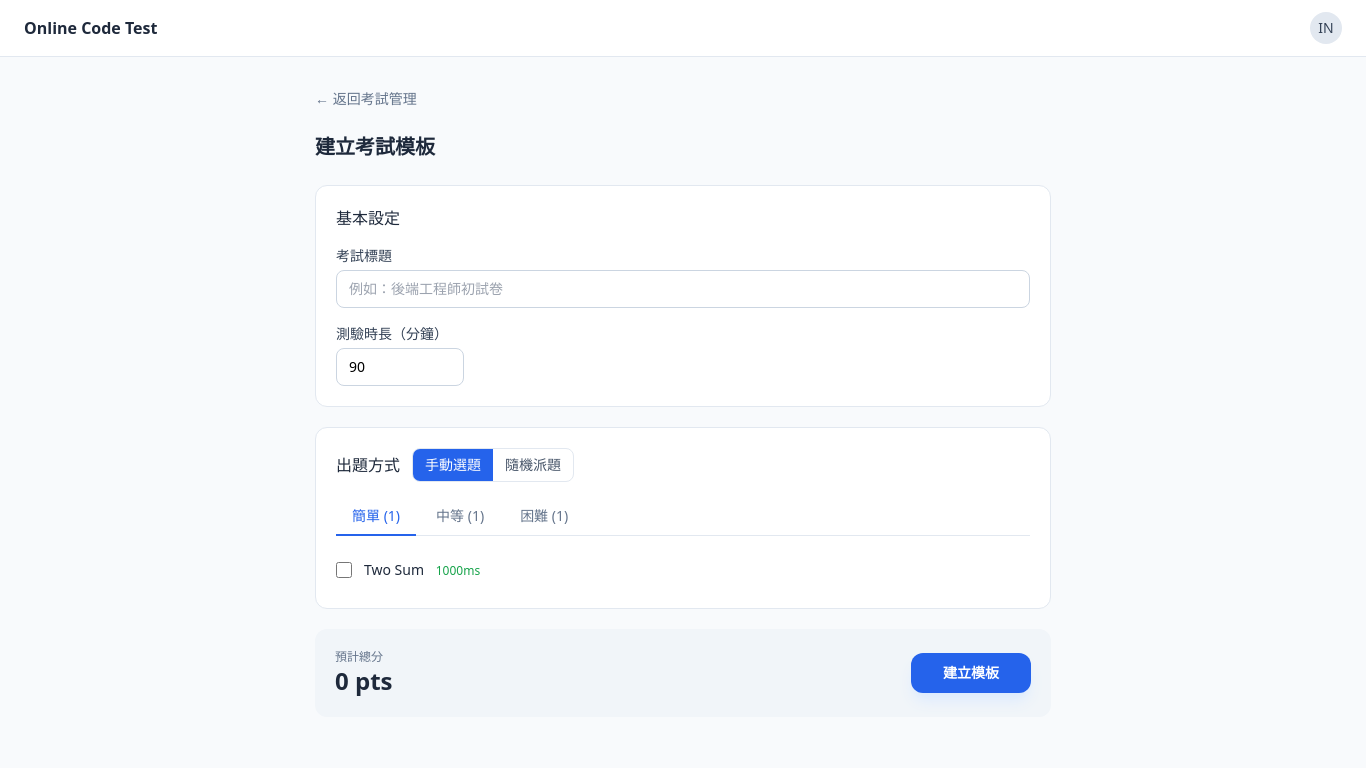
Test: TemplateCreatePage() › shows error message when createExamTemplateManual rejects
Step 1. Type "Fail Exam" into the field labelled "考試標題" → (683, 289), box x1=336 y1=270 x2=1030 y2=308
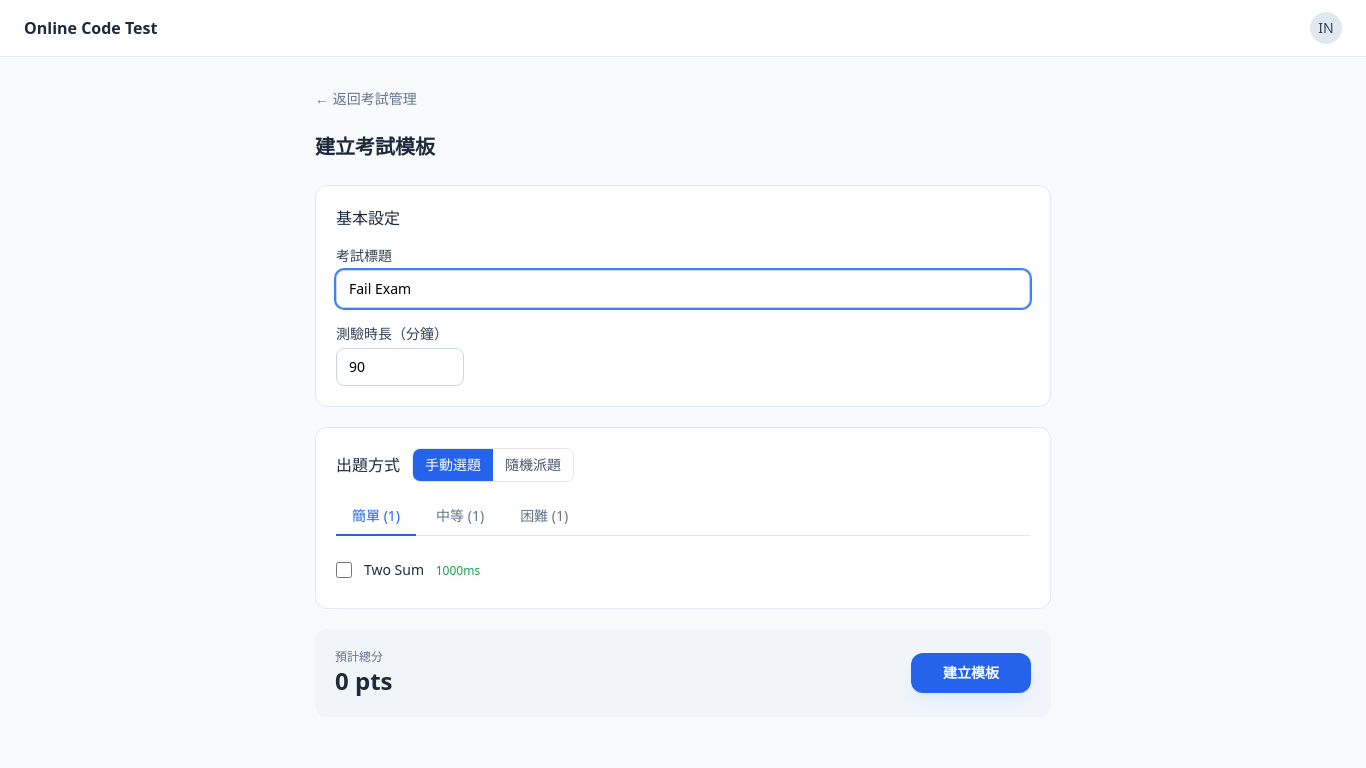
Step 2. Click the checkbox named "Two Sum" → (344, 570), box x1=336 y1=562 x2=352 y2=578
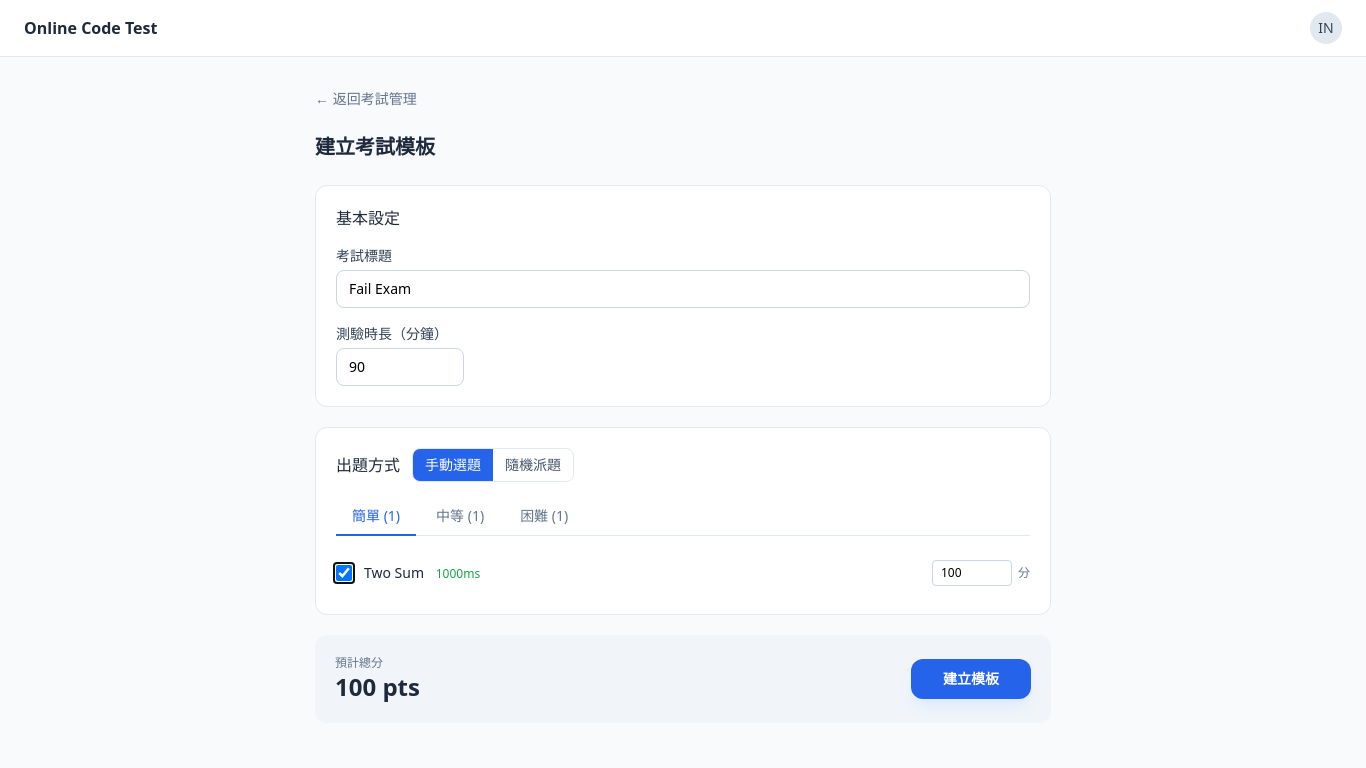
Step 3. Click the button "建立模板" → (971, 679), box x1=911 y1=659 x2=1031 y2=699
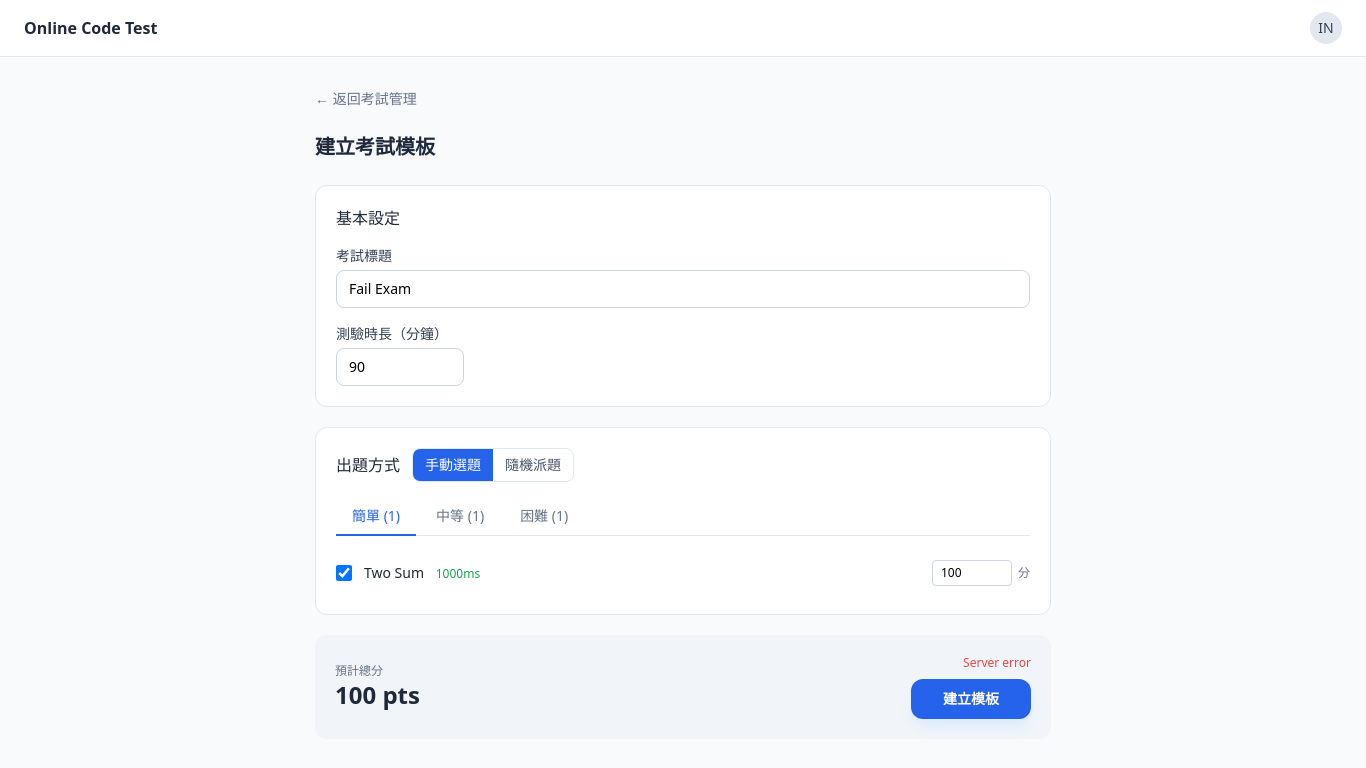
Now the text "Server error" is shown, box x1=963 y1=655 x2=1031 y2=671
